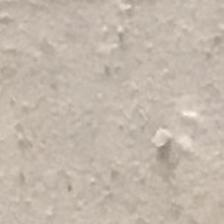Non_Crack: (10, 18, 146, 181)
